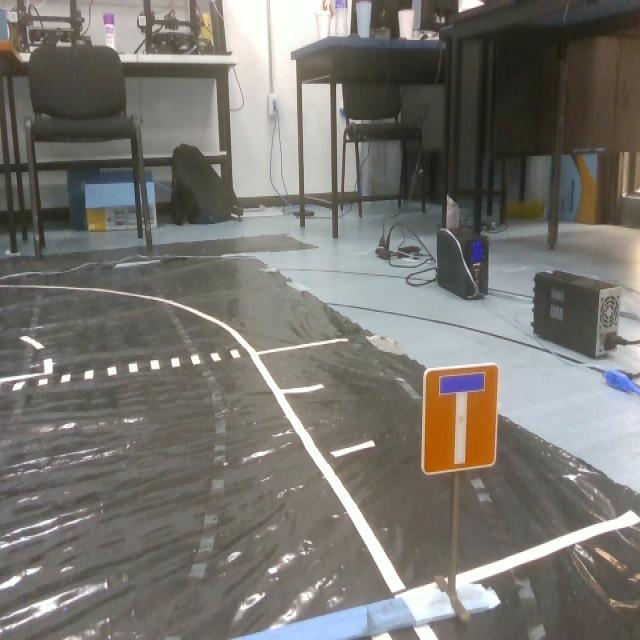stop: (422, 358, 501, 478)
